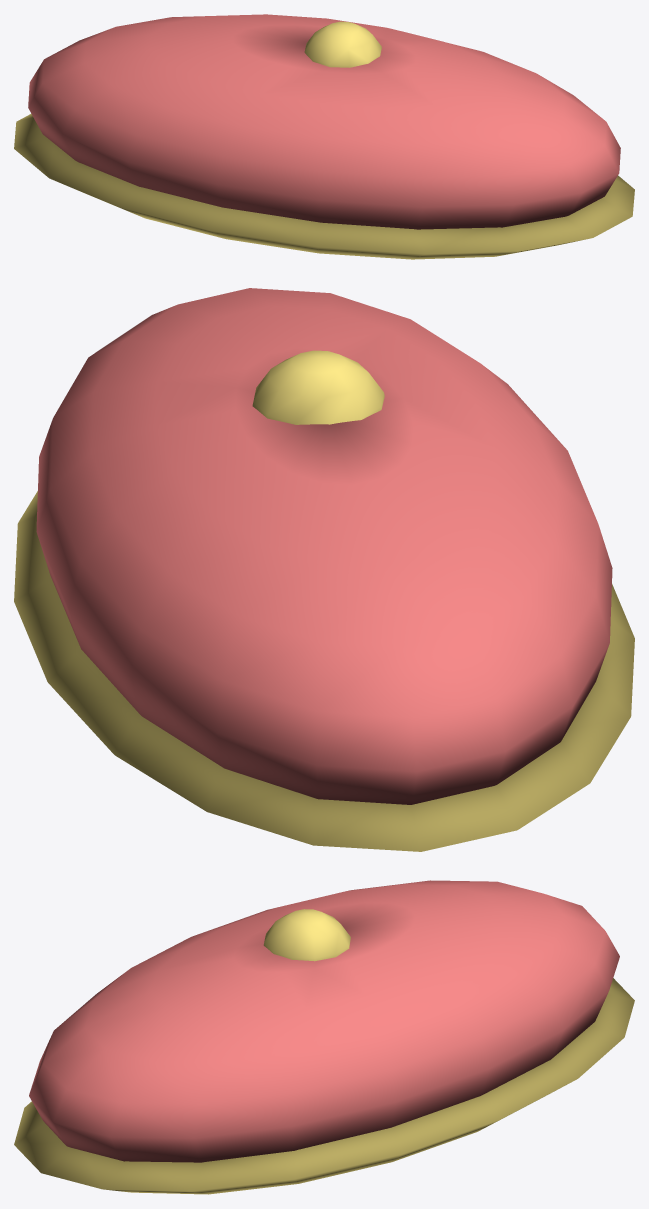
File: clown_feet.fbx
3 renders of one model, top to bottom at view 1: azimuth 30°, elevation 25°; view 2: azimuth 150°, elevation 25°; view 3: azimuth 270°, elevation 25°, orthographic. The views are drawn at different scales.
Parts seen in each view (by area): view 1: clown_feet; view 2: clown_feet; view 3: clown_feet.
Boxes of the visible parts, box(x1,y1,x2,y2) form: clown_feet: box(14, 14, 634, 259); clown_feet: box(14, 288, 634, 851); clown_feet: box(14, 880, 634, 1194).
Size of the model in its own units: 0.9439 by 0.3925 by 1.04.
